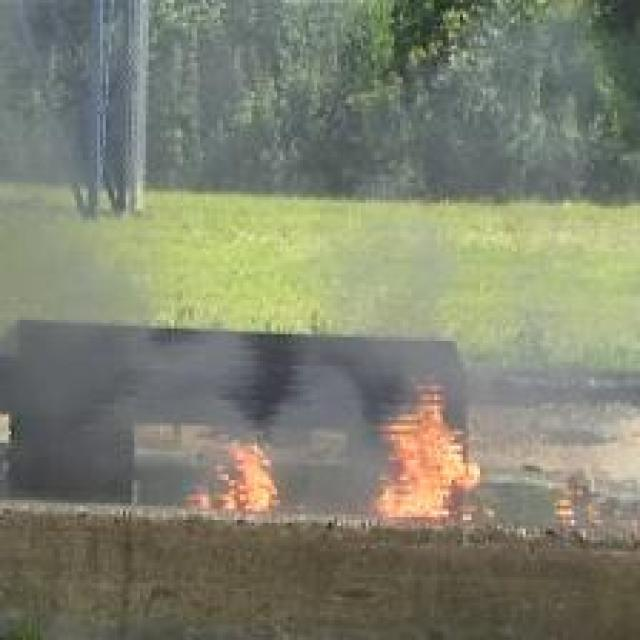Fire: (377, 382, 480, 518), (191, 441, 280, 513)
